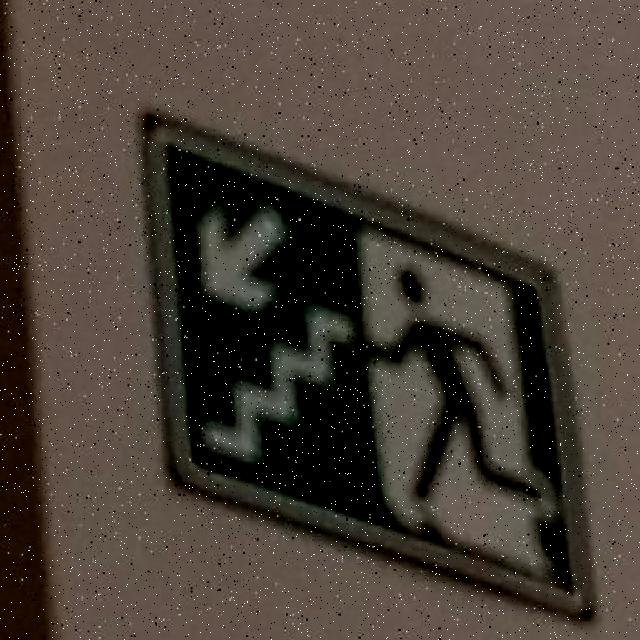emergency_exit: (140, 110, 598, 621)
